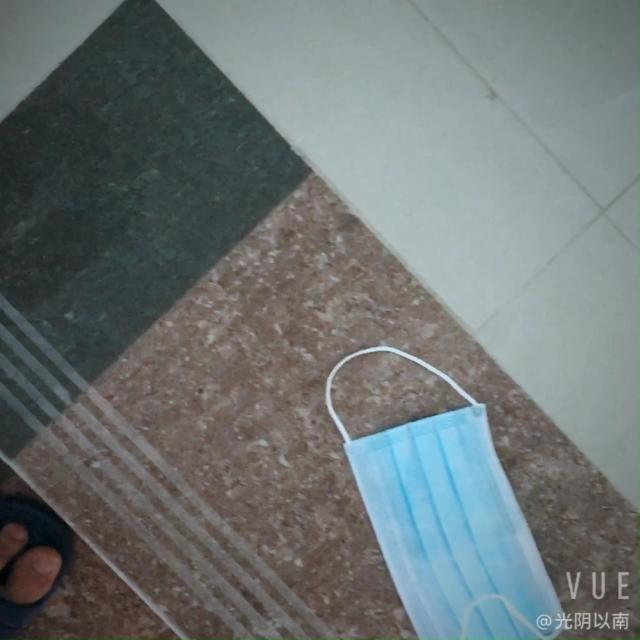face mask: (330, 398, 564, 633)
